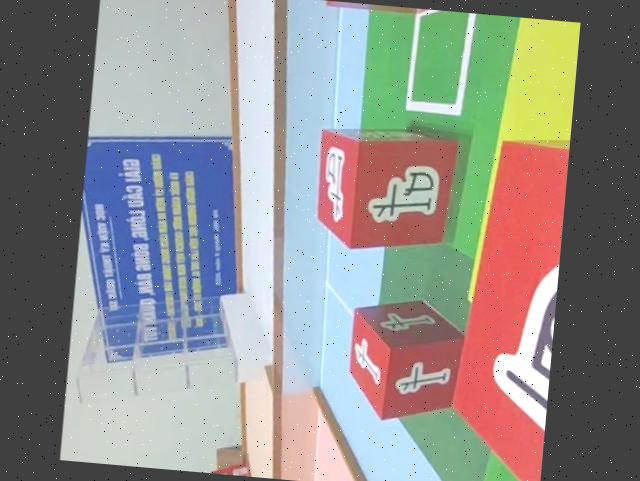R2 Real: (312, 120, 460, 257), (347, 293, 470, 426)
